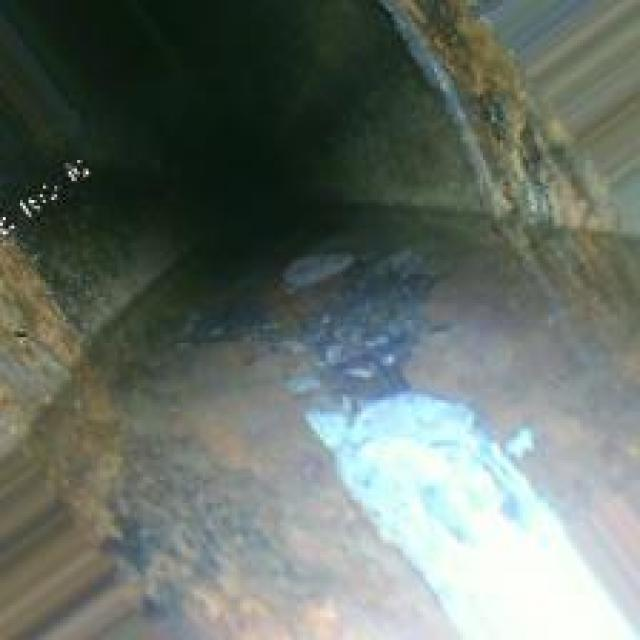stone: (183, 274, 360, 549)
